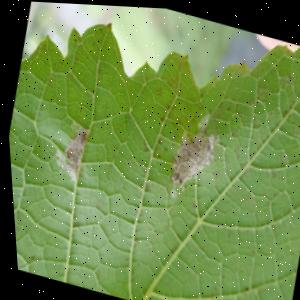Folha: (0, 0, 300, 300)
Fungo: (162, 118, 222, 197), (46, 121, 89, 182), (47, 147, 78, 181)
